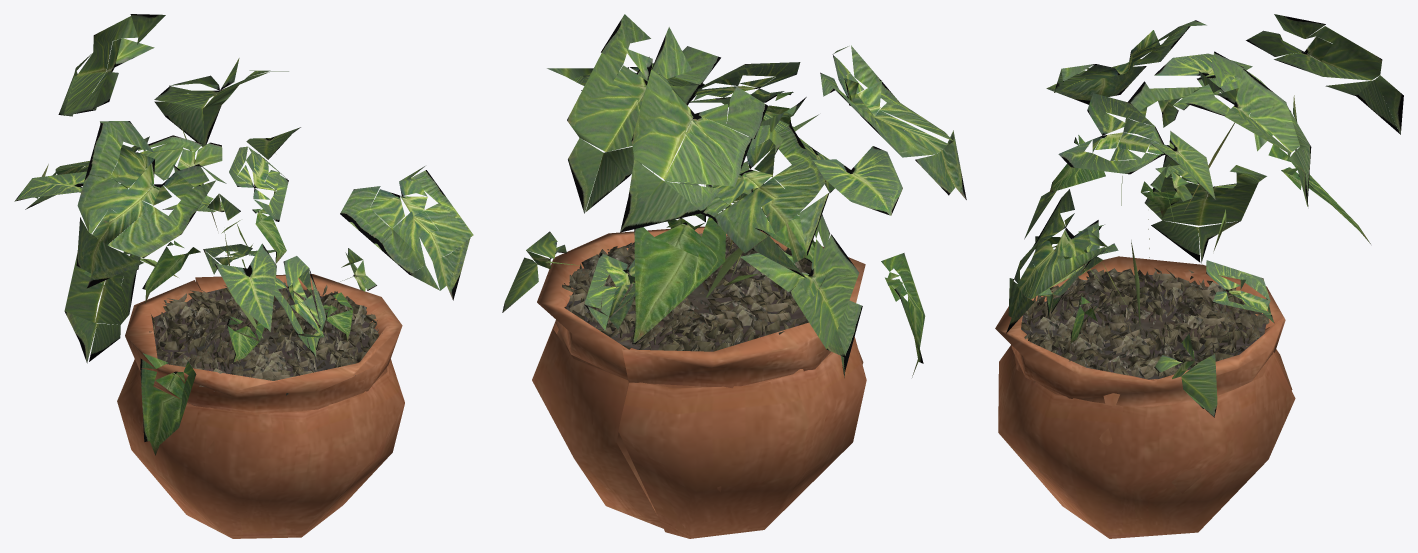
Rendered from potted_plant_02_1k.gltf.
The picture shows the model from 3 angles, left to right: view 1: azimuth 30°, elevation 25°; view 2: azimuth 150°, elevation 25°; view 3: azimuth 270°, elevation 25°; orthographic projection. The views are drawn at different scales.
Parts seen in each view (by area): view 1: potted_plant_02_leaves_LOD0, potted_plant_02_pot_LOD0, potted_plant_02_dirt_LOD0; view 2: potted_plant_02_leaves_LOD0, potted_plant_02_pot_LOD0, potted_plant_02_dirt_LOD0; view 3: potted_plant_02_leaves_LOD0, potted_plant_02_pot_LOD0, potted_plant_02_dirt_LOD0.
Boxes of the visible parts, <box> form: potted_plant_02_leaves_LOD0: <box>14,14,473,455</box>; potted_plant_02_pot_LOD0: <box>117,274,404,538</box>; potted_plant_02_dirt_LOD0: <box>149,282,382,395</box>; potted_plant_02_leaves_LOD0: <box>502,14,966,377</box>; potted_plant_02_pot_LOD0: <box>532,226,866,538</box>; potted_plant_02_dirt_LOD0: <box>562,230,827,351</box>; potted_plant_02_leaves_LOD0: <box>1006,14,1403,417</box>; potted_plant_02_pot_LOD0: <box>995,256,1295,538</box>; potted_plant_02_dirt_LOD0: <box>1021,268,1269,379</box>.
Size of what is drawn, in the model's own units: 0.6977 by 0.8543 by 0.6579.
Materials: 2 (2 with a texture image).
